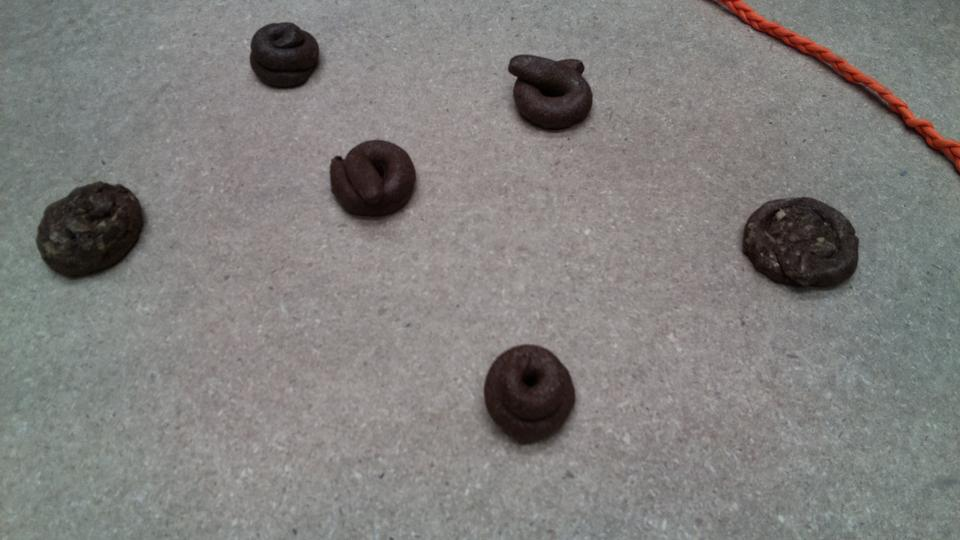poop: (738, 194, 863, 297), (34, 179, 147, 283), (481, 341, 580, 448), (328, 135, 419, 222), (506, 50, 595, 134), (246, 19, 322, 94)
rope: (720, 1, 960, 156)
